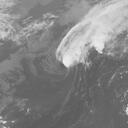cyclone: (56, 32, 94, 70)
